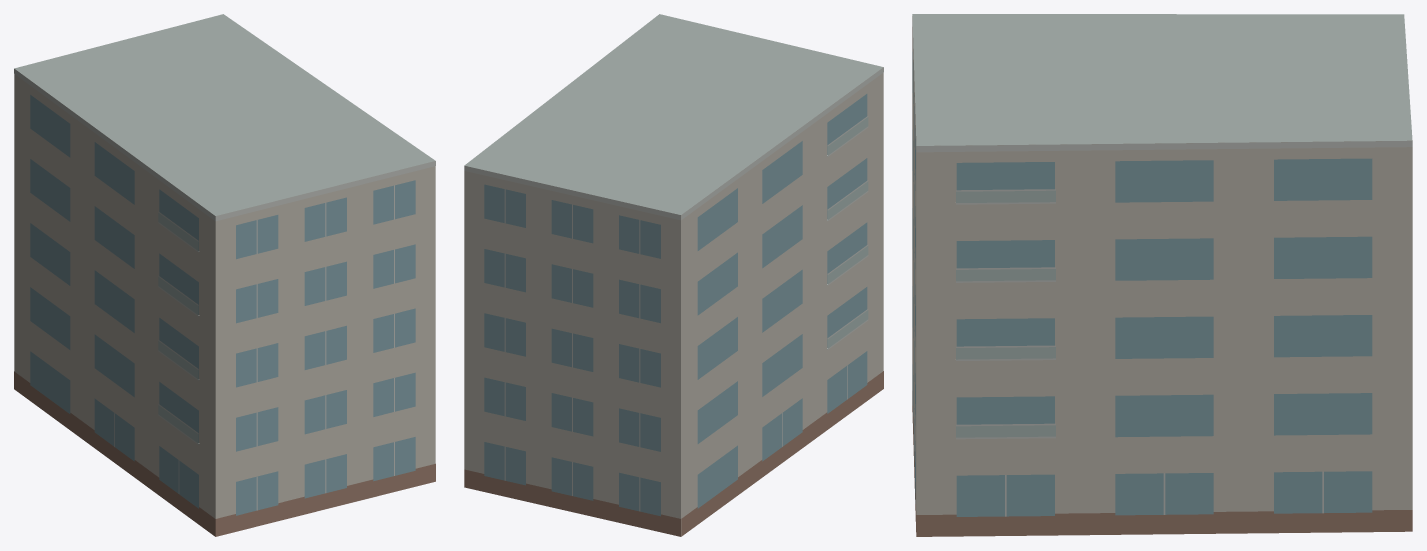
The model's file is survey-upis-33009135.glb.
3 renders of one model, left to right at view 1: azimuth 30°, elevation 25°; view 2: azimuth 150°, elevation 25°; view 3: azimuth 270°, elevation 25°, orthographic. The views are drawn at different scales.
Parts seen in each view (by area): view 1: survey-upis-33009135.tmp; view 2: survey-upis-33009135.tmp; view 3: survey-upis-33009135.tmp.
Boxes of the visible parts, x1,y1,x2,y2 form: survey-upis-33009135.tmp: (14, 14, 435, 536); survey-upis-33009135.tmp: (464, 14, 883, 536); survey-upis-33009135.tmp: (912, 14, 1412, 536).
Bounding box in the file's own units: 10.9 × 15 × 17.4.
